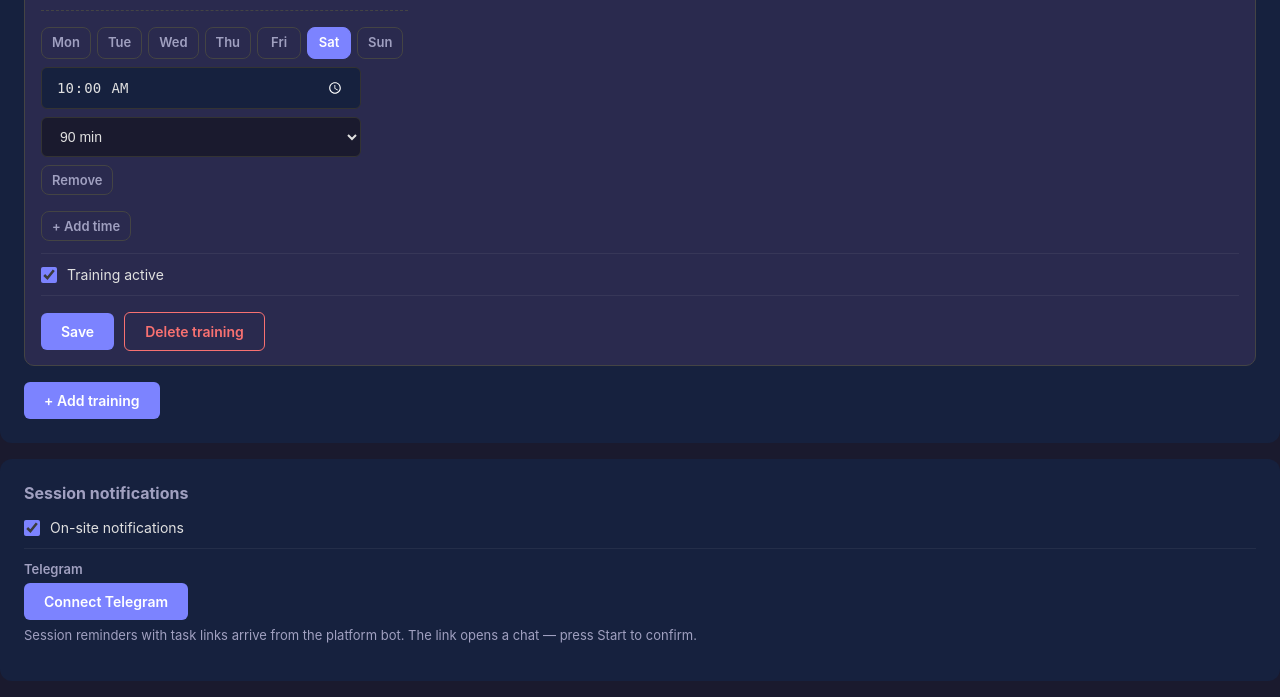
Test: StudyTab (KS-4928) › подключение Telegram: POST → deep-link открывается, статус pending
(page scrolled)
Click the button with test id "study-telegram-connect": (106, 602) [24,583,188,620]
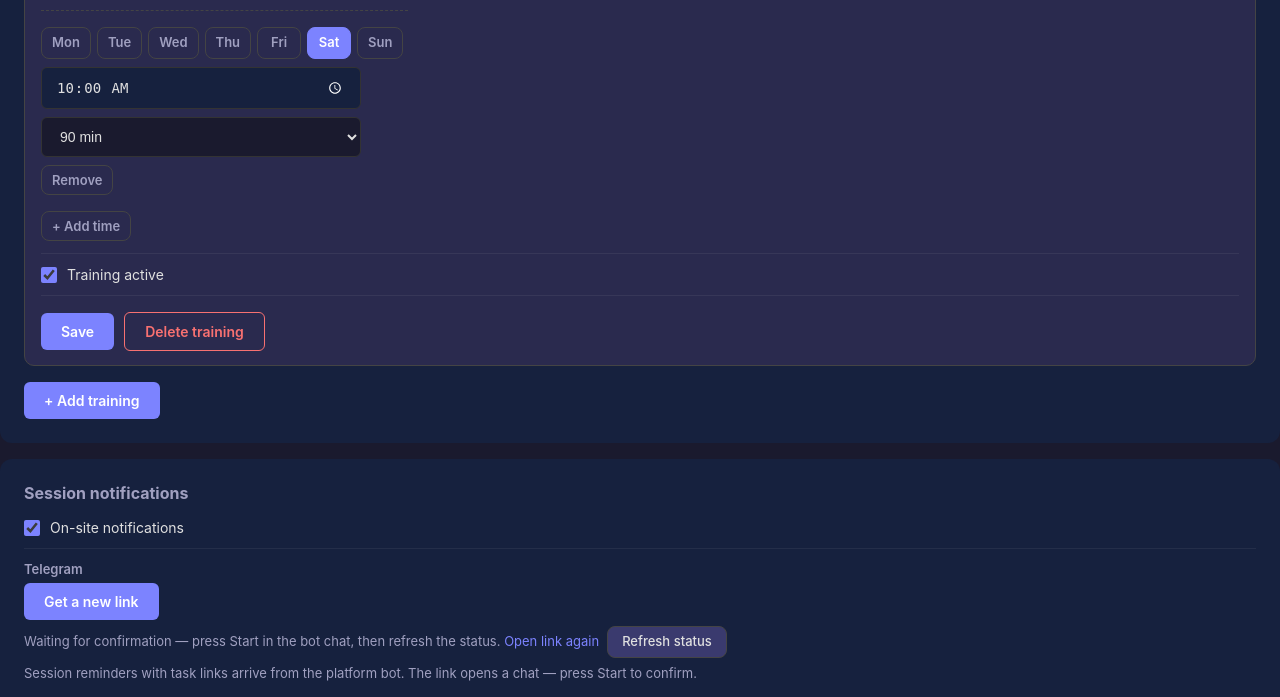
Result: the element with test id "study-telegram-pending" is shown at [24,626,727,658]
